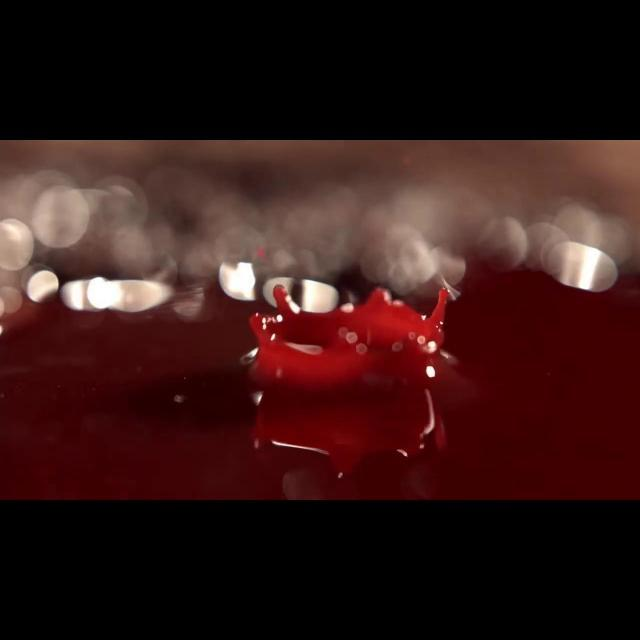blood: (0, 262, 640, 499)
